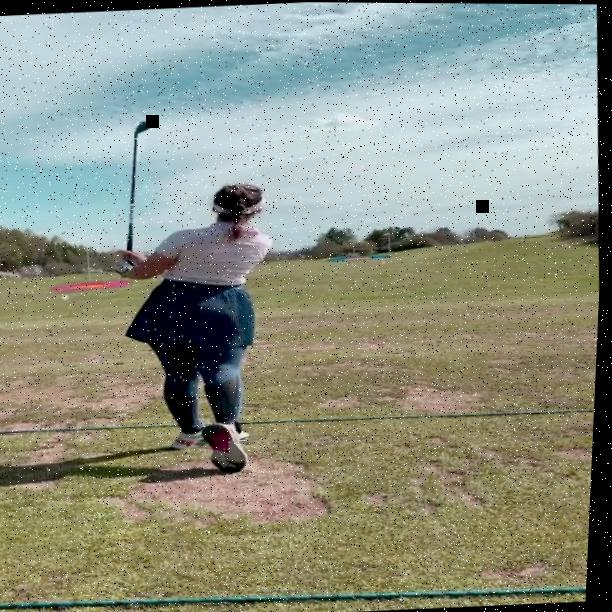ClubHead: (134, 120, 153, 135)
